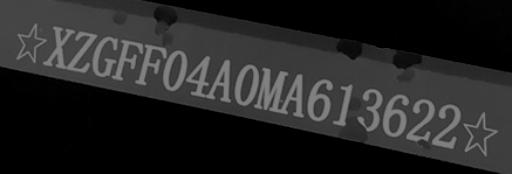letter: (254, 67, 292, 111), (132, 43, 170, 86), (43, 23, 75, 70), (352, 86, 384, 133), (110, 38, 144, 81), (380, 93, 412, 138), (404, 97, 436, 142), (432, 102, 464, 147), (328, 81, 358, 127), (280, 72, 310, 116), (307, 77, 337, 121), (232, 62, 262, 104), (206, 58, 234, 102), (66, 31, 96, 72), (161, 48, 189, 90), (186, 54, 212, 96), (91, 35, 117, 76)
